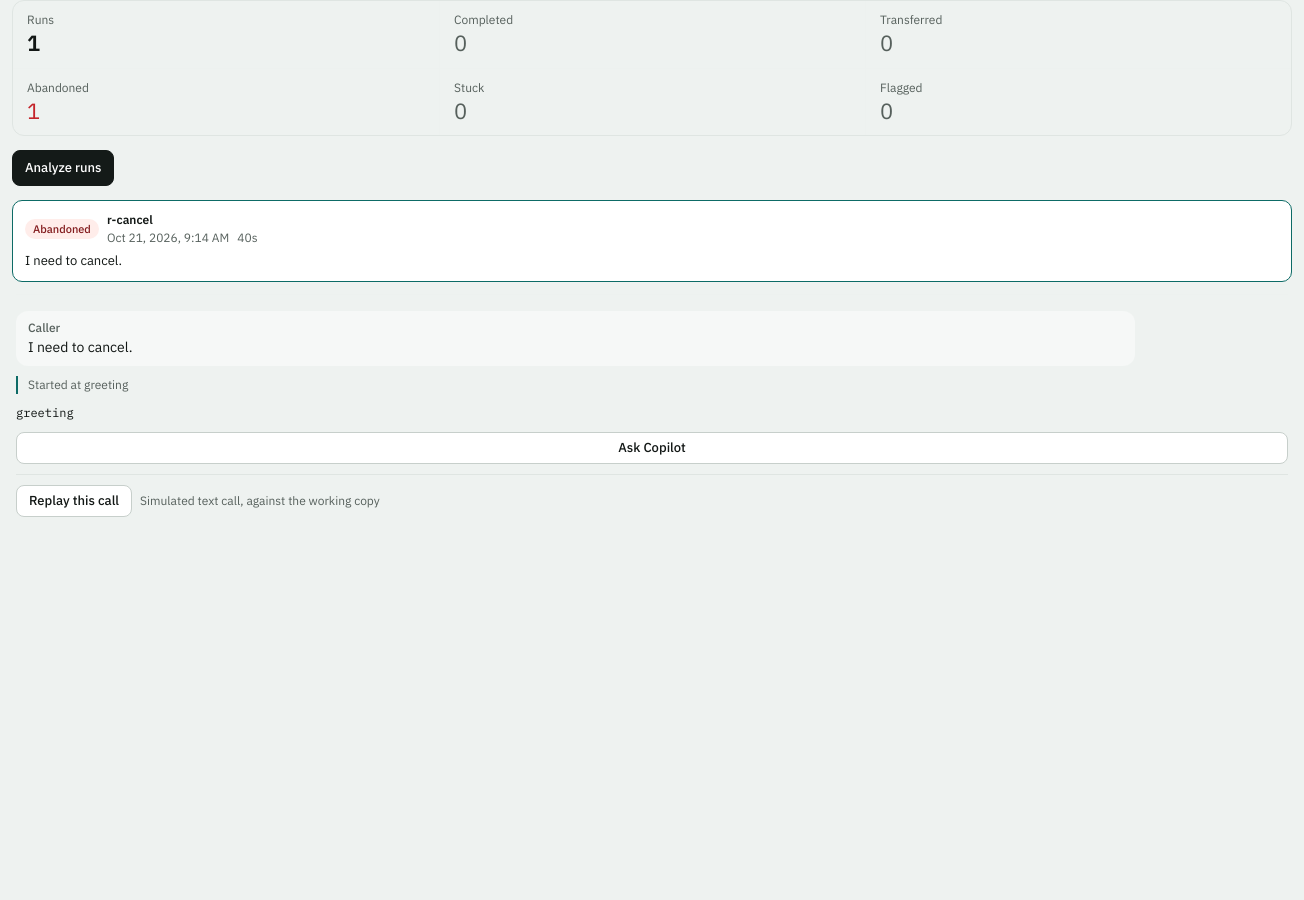
it: Replay this call › shows the lines as they are heard, before the result
Click the button "Replay this call". click: (74, 501)
box: [16,485,132,517]
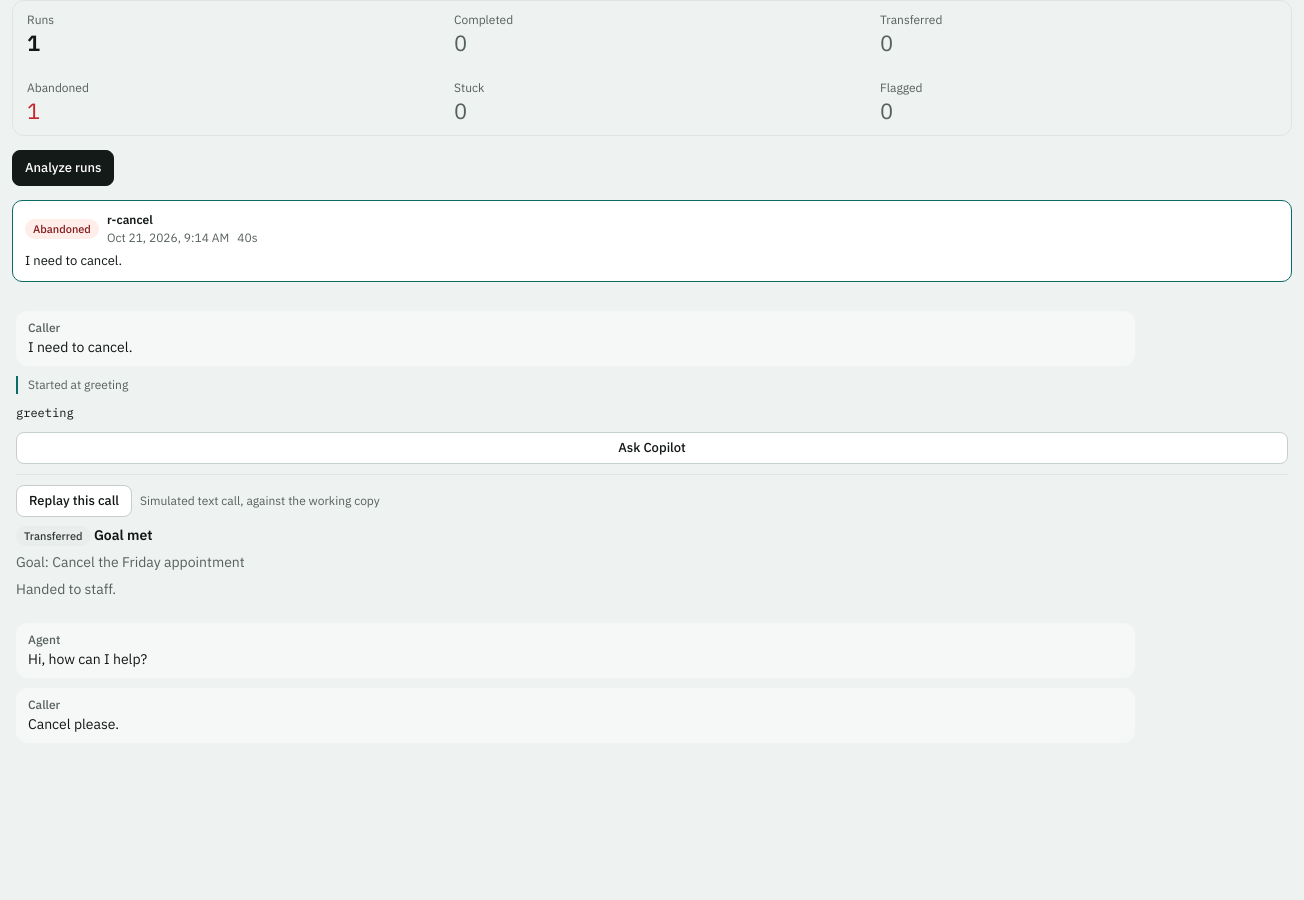
Expected: the list named "Replay transcript" shows "Hi, how can I help?", [28,650,147,668]
Expected: the text "Goal met" is shown, [94,526,152,544]
Expected: the number of lists named "Replay transcript" is 1, [16,606,1288,743]
